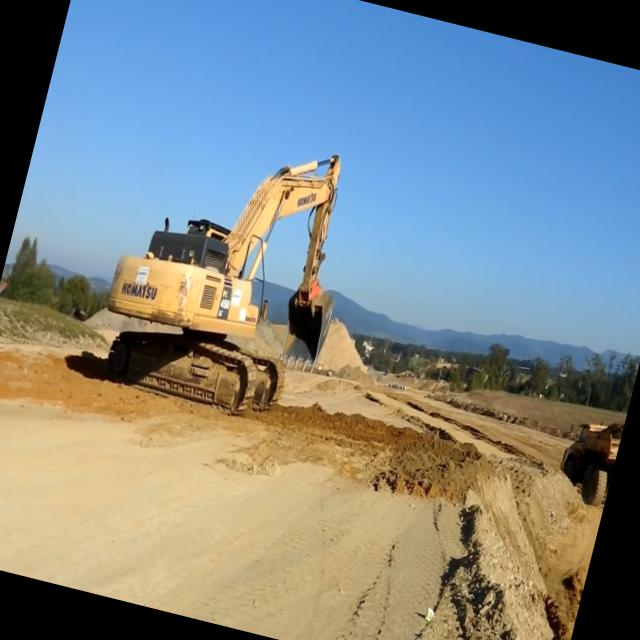Camion volquete: (551, 411, 624, 506)
Excavadora: (88, 106, 371, 432)
